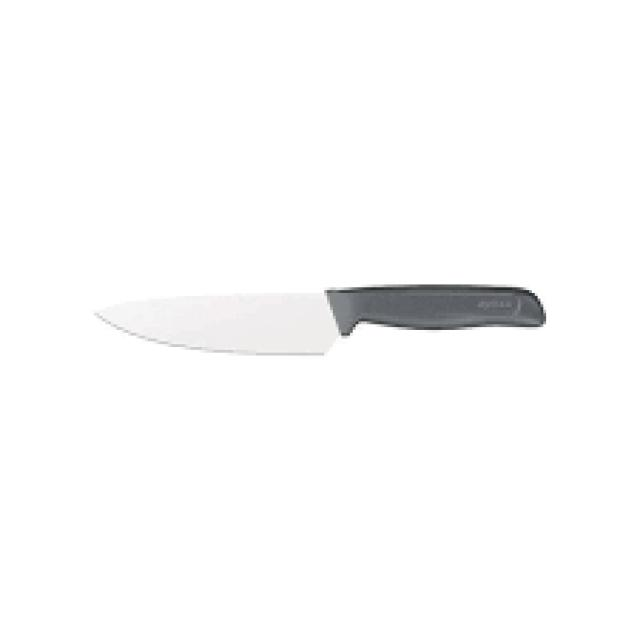Knife: (91, 282, 546, 356)
